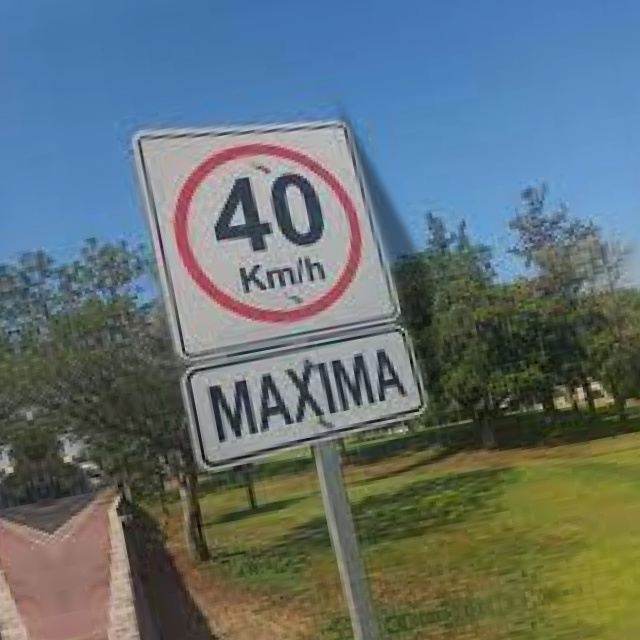Speed_Limit_40: (152, 109, 392, 352)
